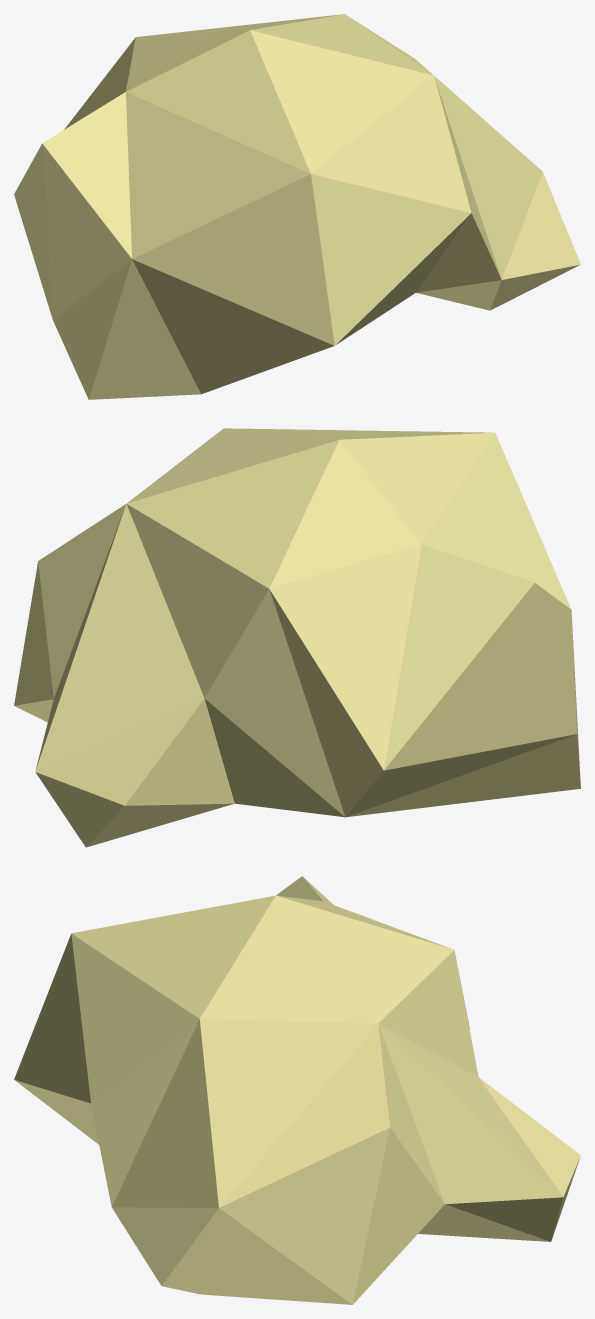
File: SpartiumJunceum.glb
3 views of the same model, one above another, from view 1: azimuth 30°, elevation 25°; view 2: azimuth 150°, elevation 25°; view 3: azimuth 270°, elevation 25° (orthographic). The views are drawn at different scales.
Parts seen in each view (by area): view 1: Crown; view 2: Crown; view 3: Crown.
Boxes of the visible parts, <box> form: Crown: <box>14,14,580,399</box>; Crown: <box>14,428,580,847</box>; Crown: <box>14,876,580,1304</box>.
Size of the model in its own units: 4.72 by 3.18 by 4.83.
